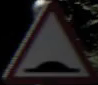Speed Breaker ahead: (7, 7, 84, 76)
